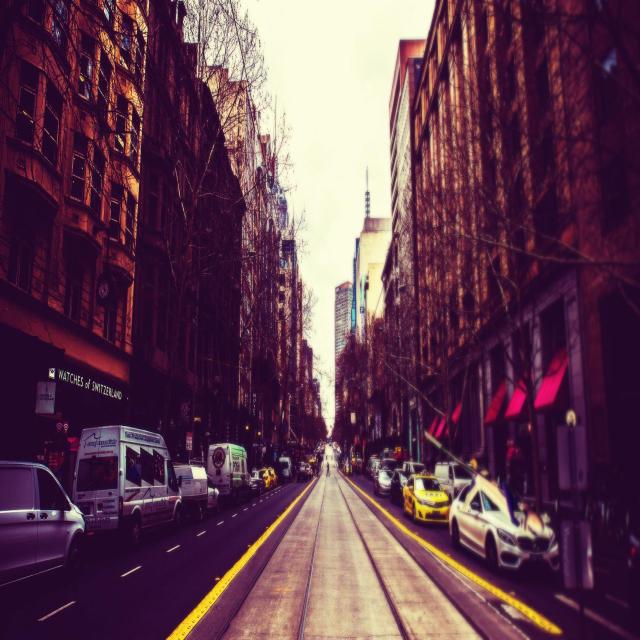airplane: (424, 432, 545, 540)
